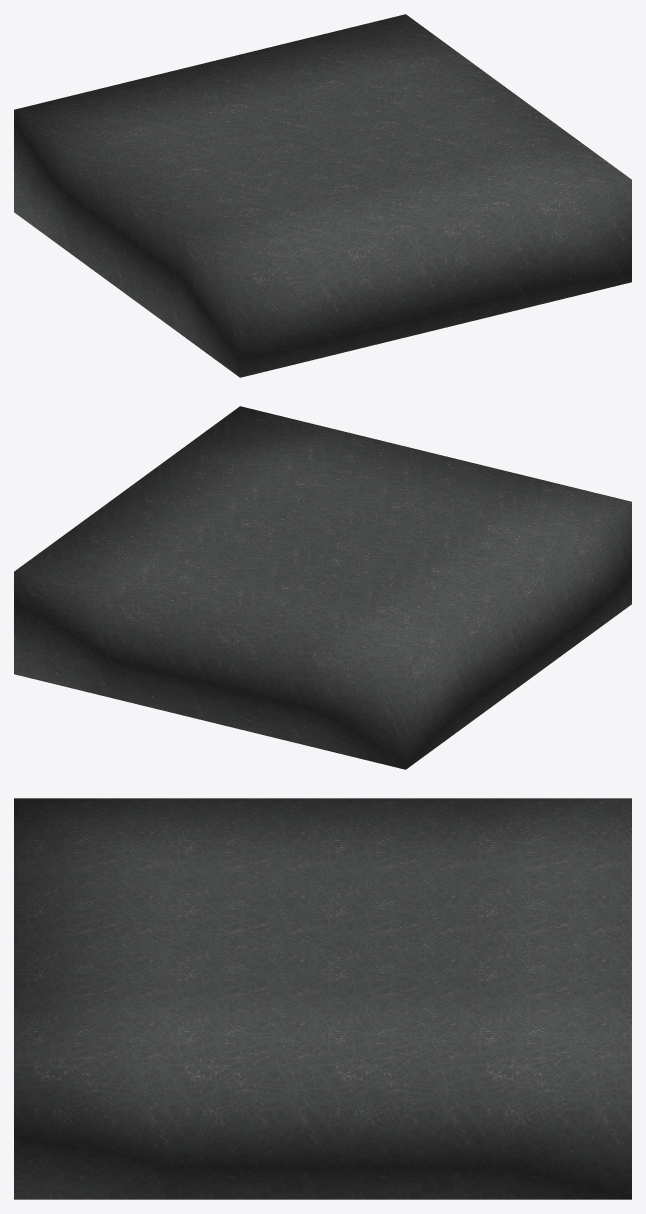
Rendered from Back_4x4.obj.
3 renders of one model, top to bottom at view 1: azimuth 30°, elevation 25°; view 2: azimuth 150°, elevation 25°; view 3: azimuth 270°, elevation 25°, orthographic. The views are drawn at different scales.
Visible parts, largest first — view 1: Cube.008; view 2: Cube.008; view 3: Cube.008.
Boxes of the visible parts, x1=… form: Cube.008: x1=14, y1=14, x2=631, y2=377; Cube.008: x1=14, y1=406, x2=631, y2=769; Cube.008: x1=14, y1=798, x2=631, y2=1199.
Size of the model in its own units: 2 by 0.5 by 2.
